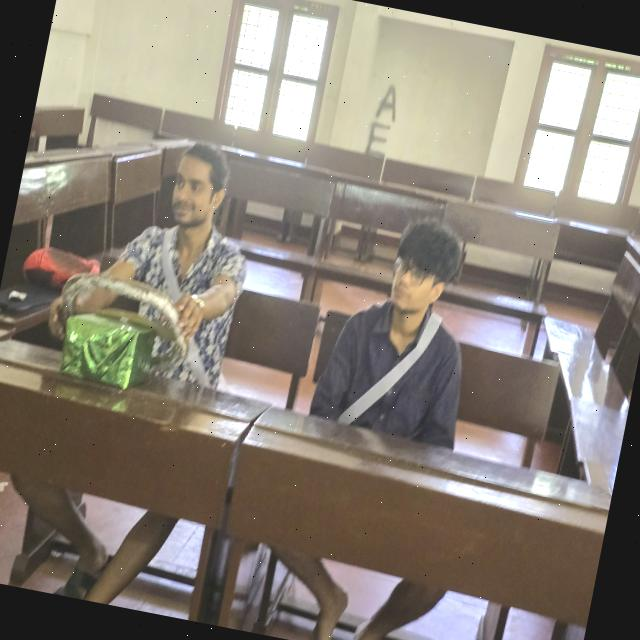seatbelt: (129, 235, 248, 388), (328, 304, 450, 436)
